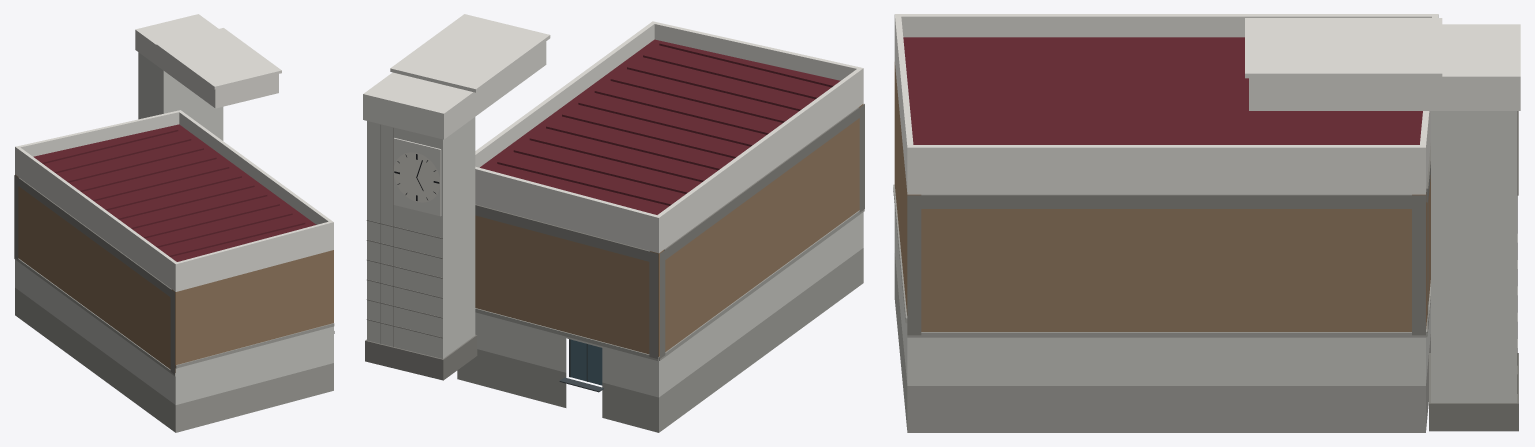
The picture shows the model from 3 angles, left to right: view 1: azimuth 30°, elevation 25°; view 2: azimuth 150°, elevation 25°; view 3: azimuth 270°, elevation 25°; orthographic projection. The views are drawn at different scales.
Parts seen in each view (by area): view 1: clockhall__brick, clockhall__parapet-concrete, clockhall__roof-metal-maroon, clockhall__wall-plaster-tile, clockhall__base-stone, clockhall__base-stone-dark; view 2: clockhall__parapet-concrete, clockhall__brick, clockhall__wall-plaster-tile, clockhall__roof-metal-maroon, clockhall__base-stone, clockhall__base-stone-dark, clockhall__clock-face, clockhall__glass; view 3: clockhall__brick, clockhall__parapet-concrete, clockhall__wall-plaster-tile, clockhall__roof-metal-maroon, clockhall__base-stone, clockhall__base-stone-dark.
Boxes of the visible parts, box(x1,y1,x2,y2) form: clockhall__brick: box(15, 174, 333, 372); clockhall__parapet-concrete: box(15, 14, 333, 291); clockhall__roof-metal-maroon: box(33, 124, 316, 261); clockhall__wall-plaster-tile: box(15, 52, 333, 404); clockhall__base-stone: box(14, 257, 334, 432); clockhall__base-stone-dark: box(14, 175, 174, 374); clockhall__parapet-concrete: box(363, 14, 863, 253); clockhall__brick: box(475, 104, 863, 356); clockhall__wall-plaster-tile: box(367, 117, 863, 397); clockhall__roof-metal-maroon: box(480, 39, 840, 214); clockhall__base-stone: box(457, 209, 864, 432); clockhall__base-stone-dark: box(365, 104, 864, 380); clockhall__clock-face: box(393, 152, 440, 202); clockhall__glass: box(570, 339, 602, 385); clockhall__brick: box(894, 62, 1430, 331); clockhall__parapet-concrete: box(894, 14, 1520, 195); clockhall__wall-plaster-tile: box(894, 111, 1516, 402); clockhall__roof-metal-maroon: box(903, 37, 1422, 144); clockhall__base-stone: box(893, 184, 1430, 432); clockhall__base-stone-dark: box(907, 111, 1518, 431).
Size of the model in its own units: 16.27 by 17.4 by 24.81.
